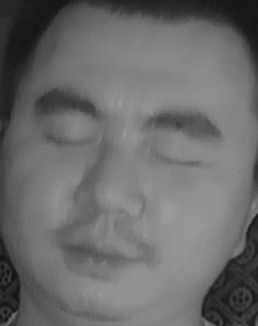blink: (152, 140, 202, 183), (41, 120, 96, 158)
mouth: (58, 225, 144, 282)
